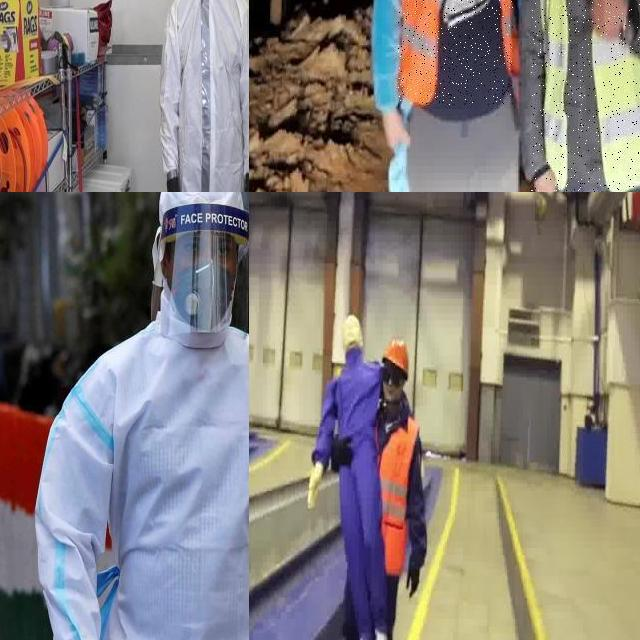BOOTS: (370, 619, 397, 640)
GLASS: (383, 368, 403, 384)
GLOVE: (331, 431, 355, 471), (405, 554, 421, 598)
HELMET: (384, 340, 410, 380)
MASK: (172, 264, 235, 330)
VEST: (531, 0, 640, 192), (398, 0, 513, 105), (378, 415, 421, 575)
